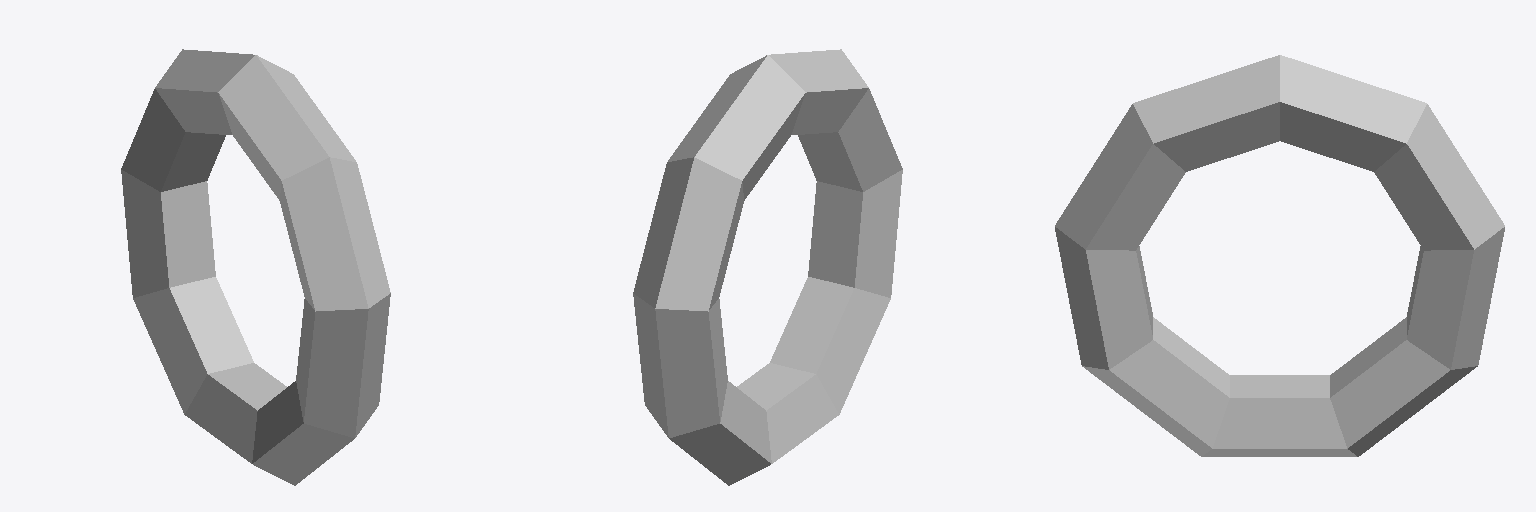
File: ExitSpiral.obj
3 renders of one model, left to right at view 1: azimuth 30°, elevation 25°; view 2: azimuth 150°, elevation 25°; view 3: azimuth 270°, elevation 25°, orthographic.
Visible parts, largest first — view 1: Torus2; view 2: Torus2; view 3: Torus2.
Boxes of the visible parts, <box> form: Torus2: <box>121,49,390,485</box>; Torus2: <box>633,49,902,485</box>; Torus2: <box>1055,55,1504,456</box>.
Bounding box in the file's own units: 0.2378 × 1.21 × 1.23.